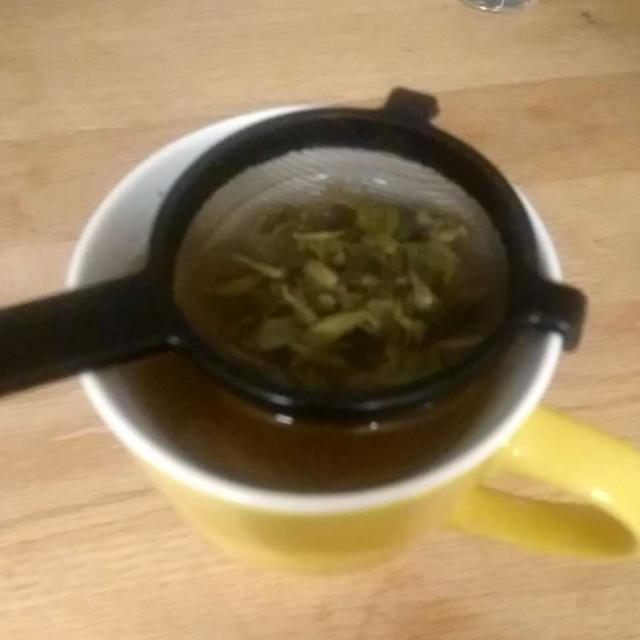tea: (124, 149, 506, 450)
